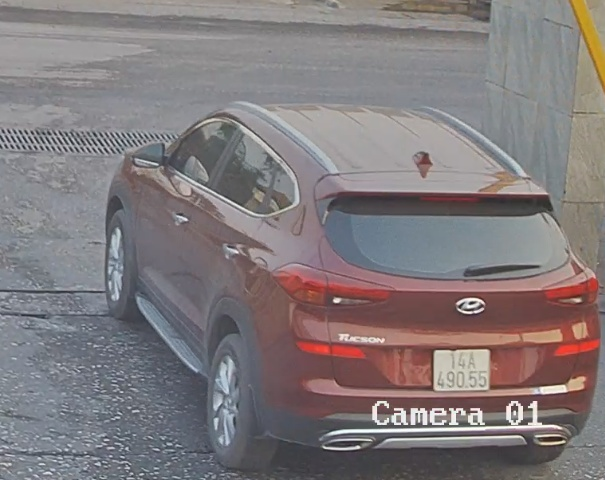vehicle plate: (430, 343, 492, 391)
